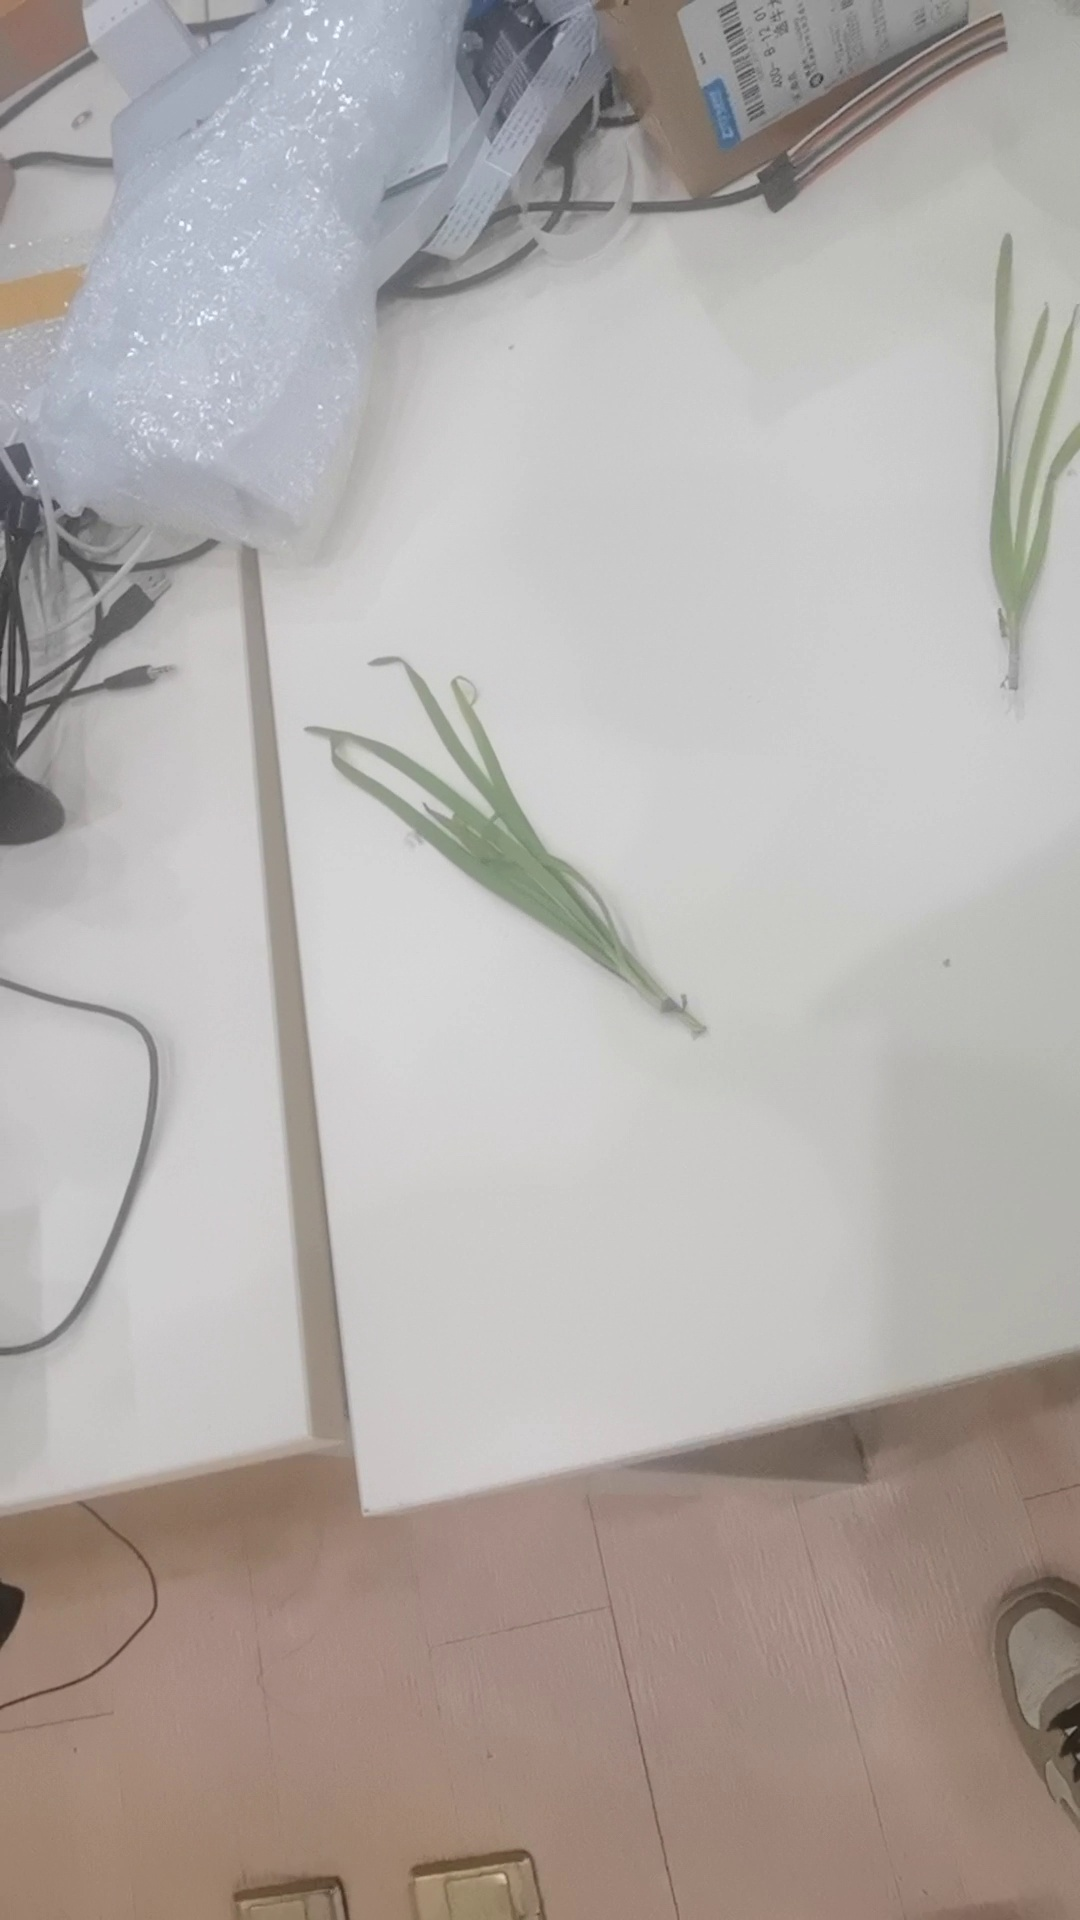chives: (298, 645, 712, 1044), (965, 225, 1080, 707)
